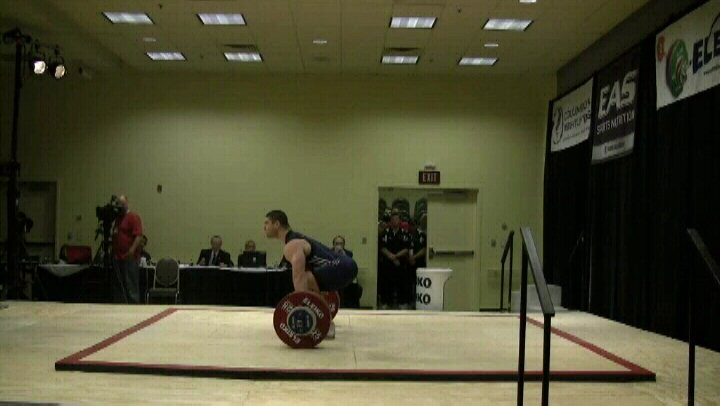barbell: (271, 291, 333, 350)
